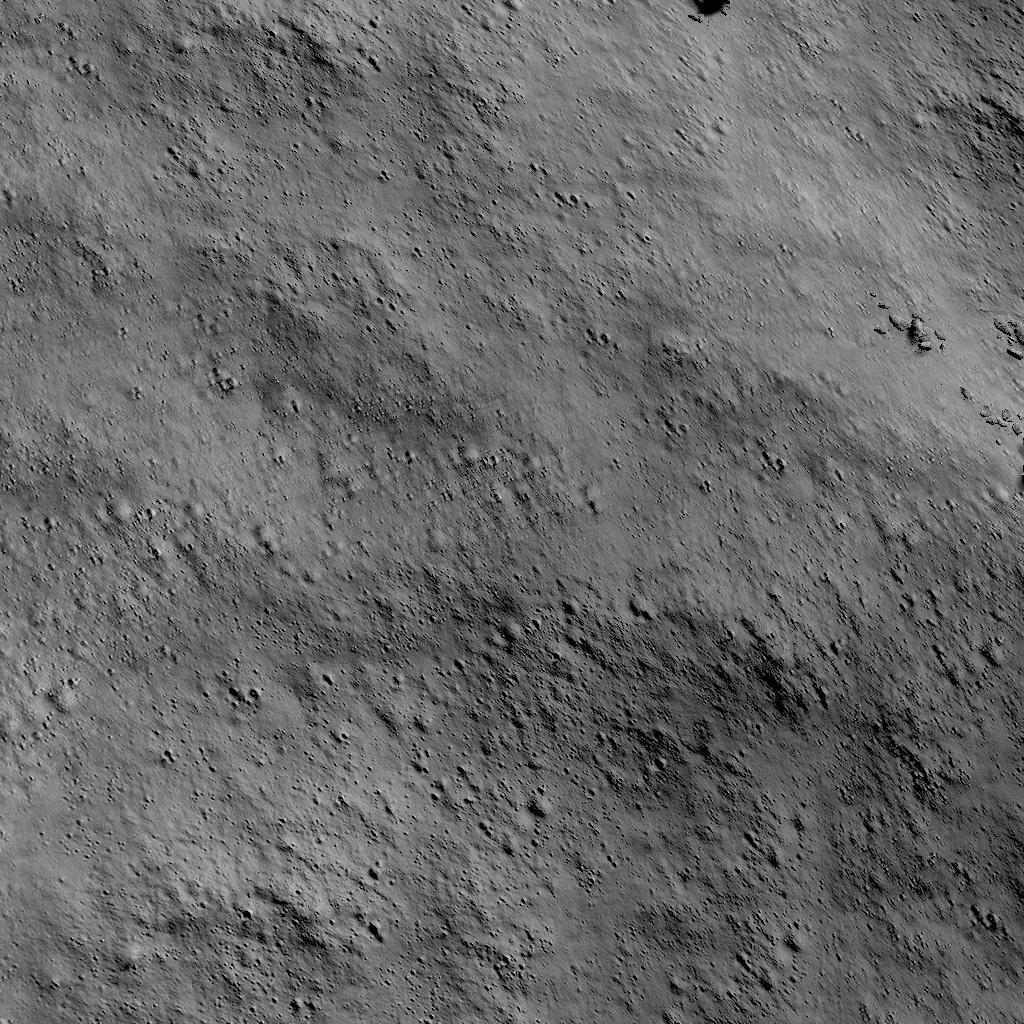Plan surface: (0, 39, 867, 1024)
